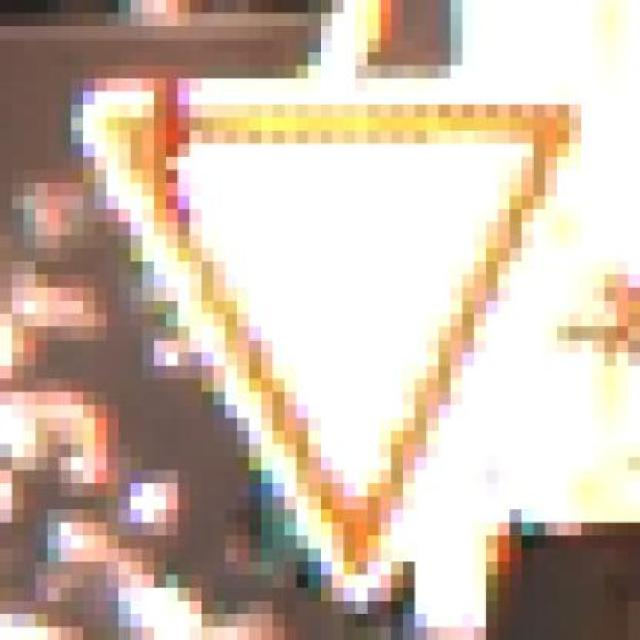Give Way: (48, 39, 604, 601)
